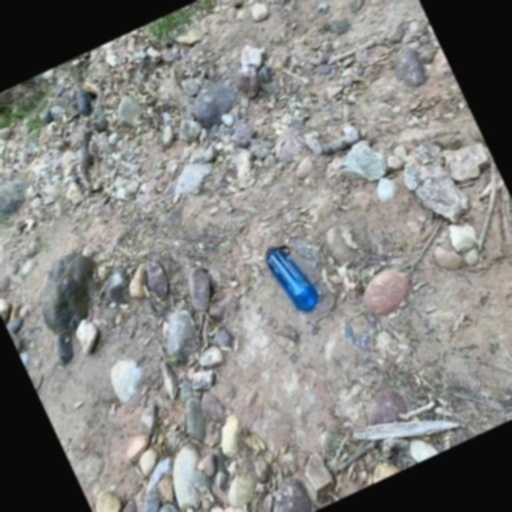bottle: (261, 237, 324, 319)
